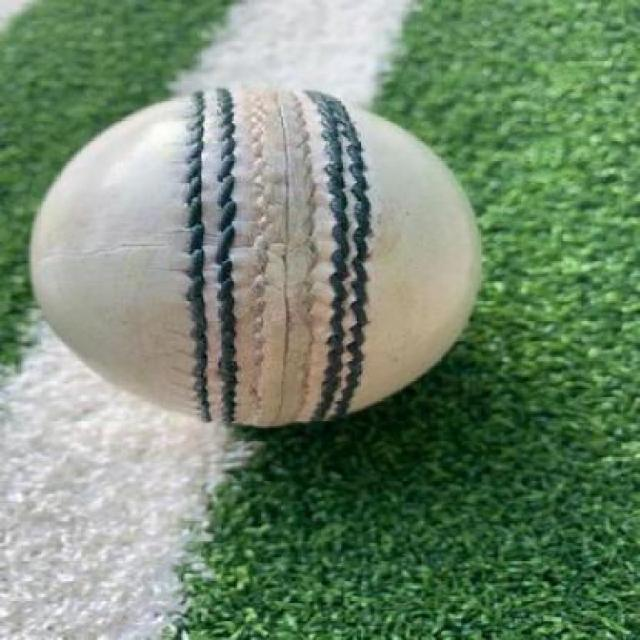ball: (1, 68, 520, 438)
